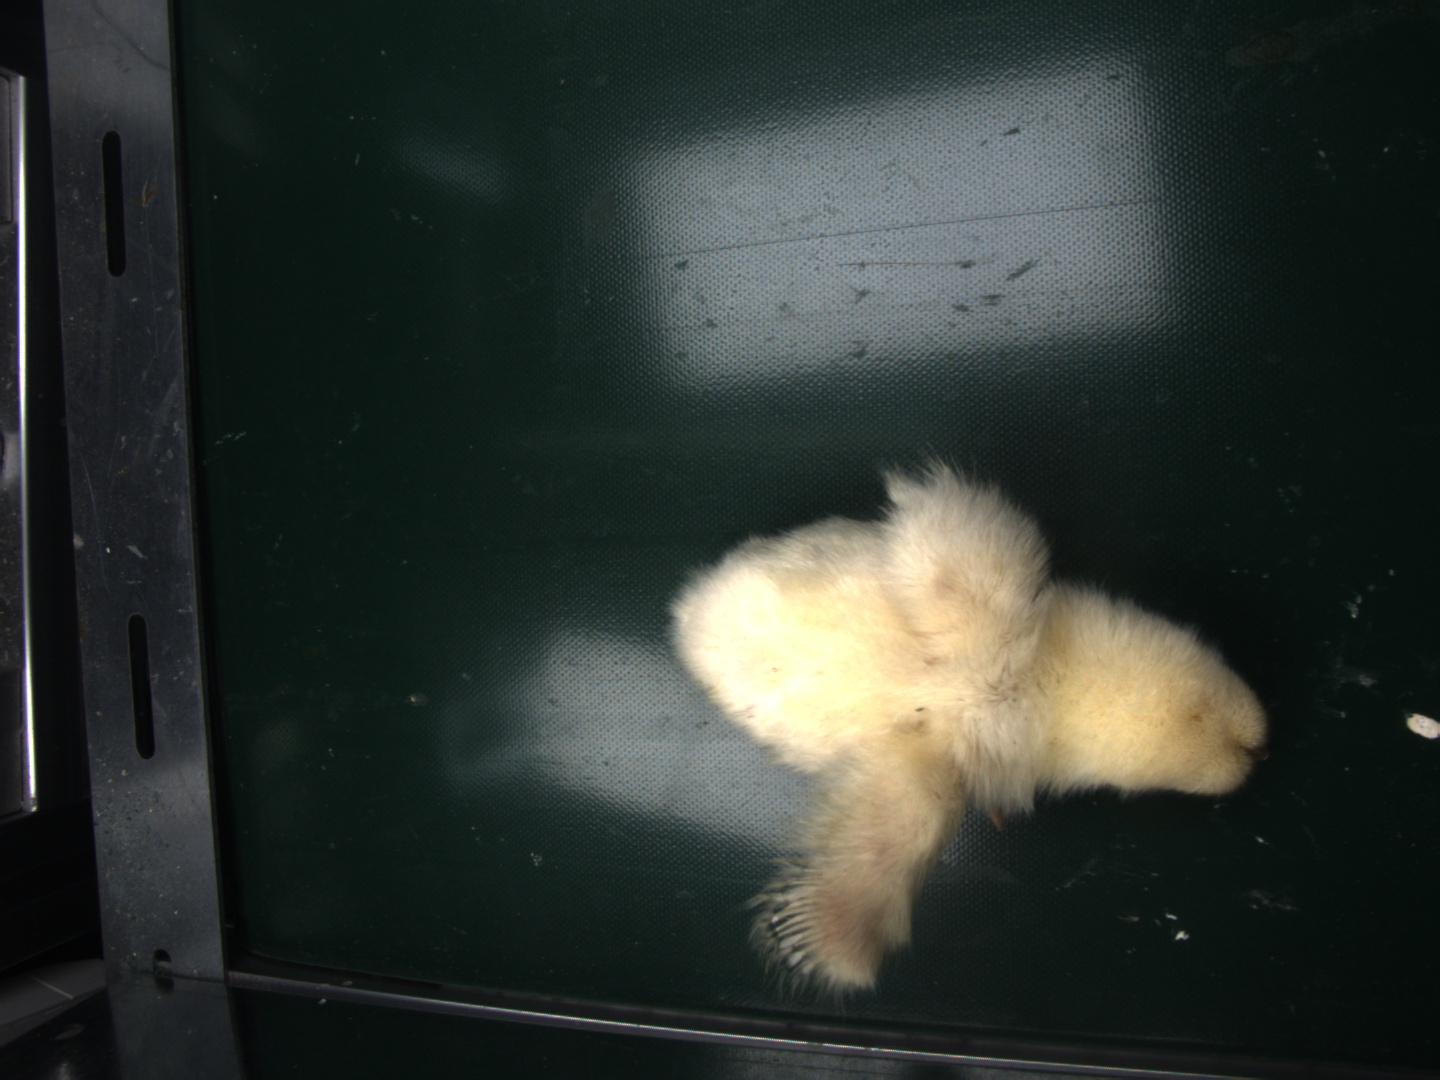male: (769, 881, 825, 976)
